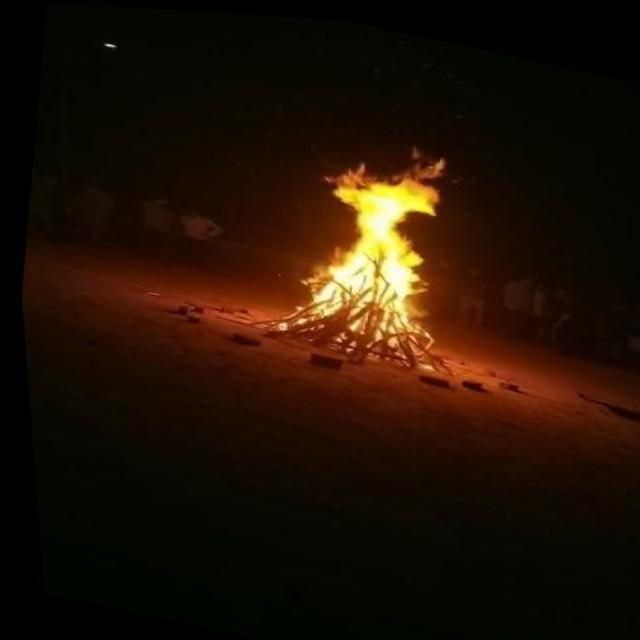fire: (263, 108, 495, 370)
